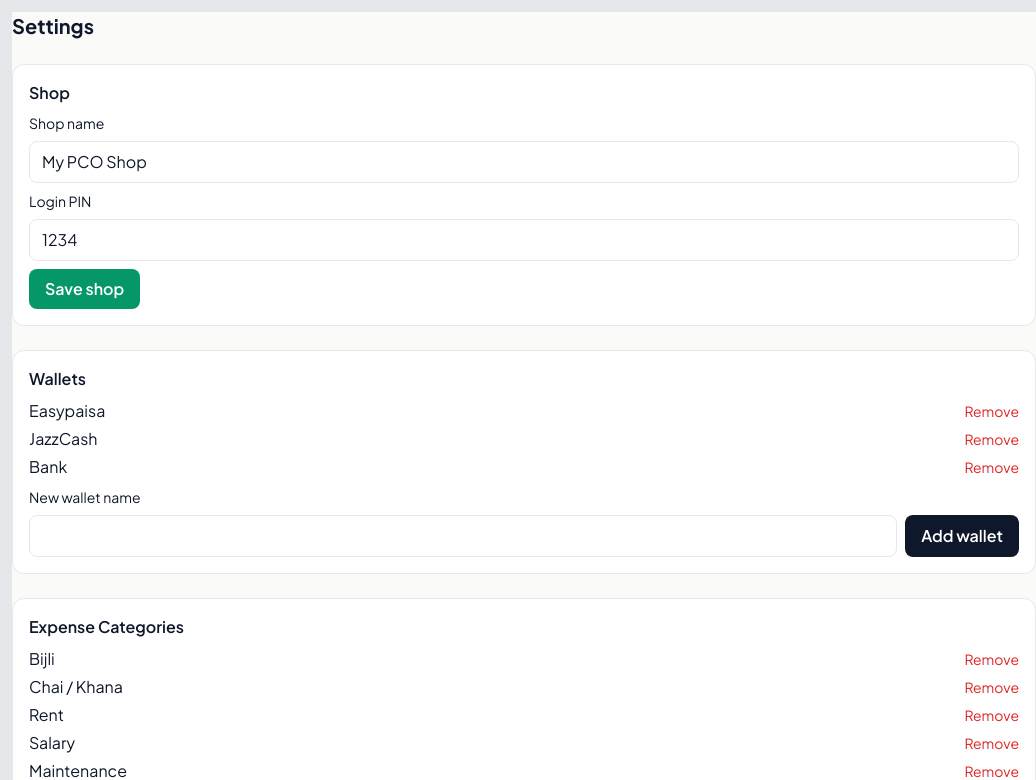
Test case: Settings › adds a new wallet
Type "SadaPay" into the field labelled "New wallet name". click: (463, 536)
box: [29,515,897,557]
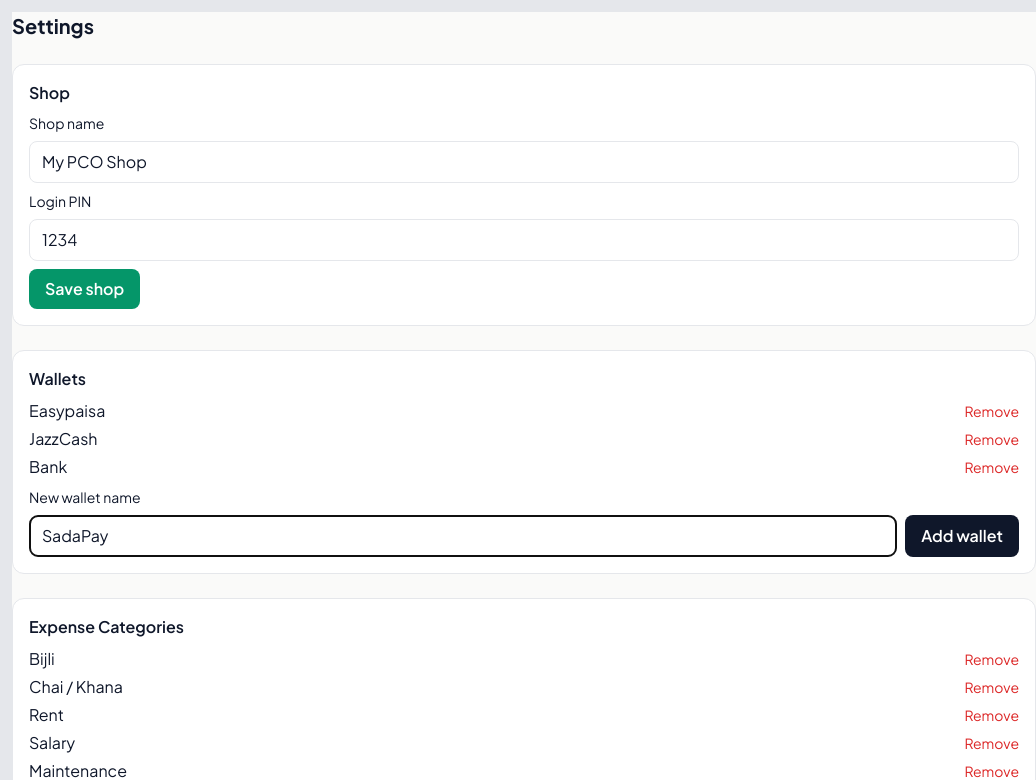
Click the button "Add wallet". click: (962, 536)
box: [905,515,1019,557]
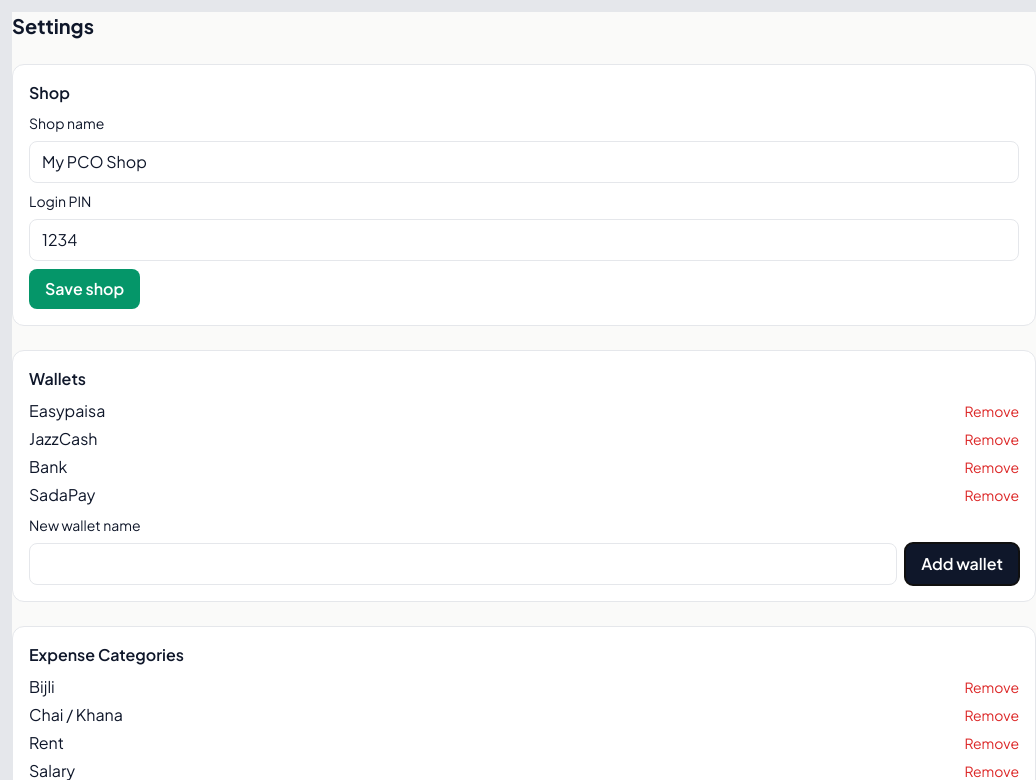
Now the text "SadaPay" is shown, box [29,483,95,507]
